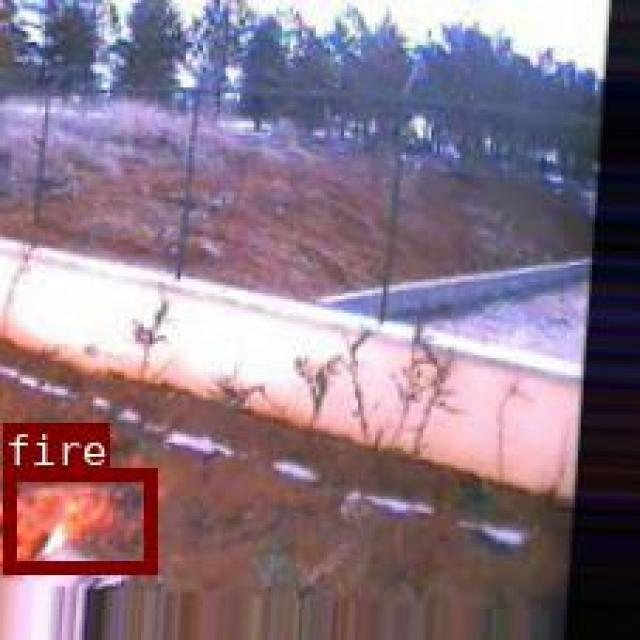fire: (3, 466, 154, 572)
